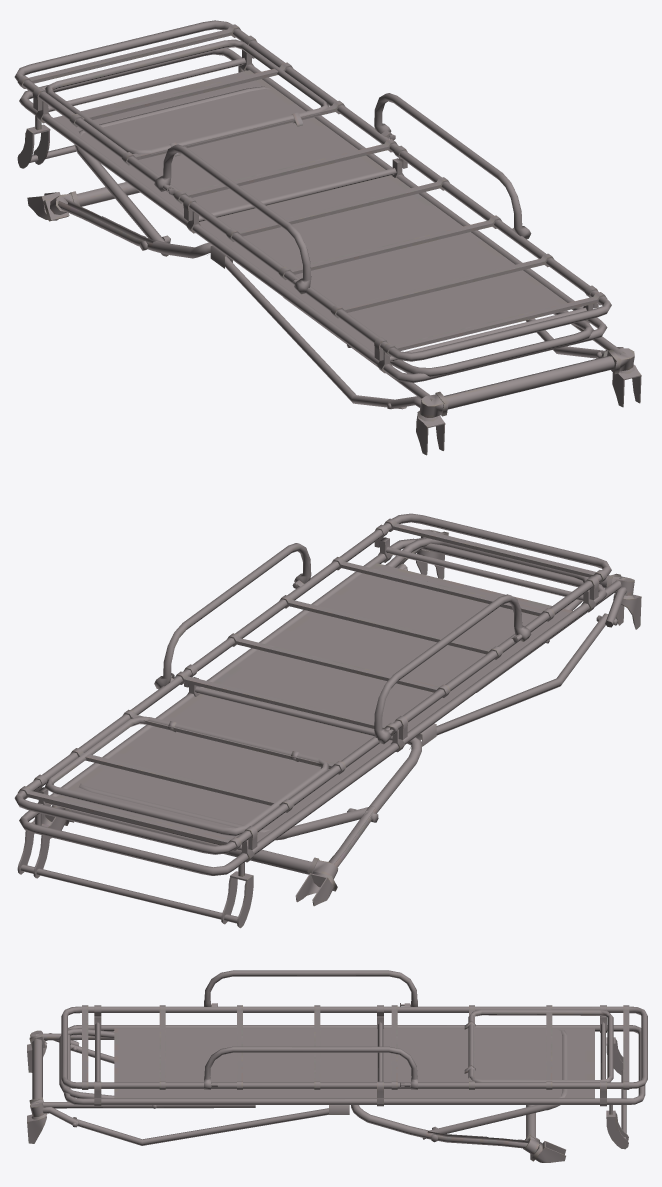
Rendered from 207_StretCher.fbx.
3 renders of one model, top to bottom at view 1: azimuth 30°, elevation 25°; view 2: azimuth 150°, elevation 25°; view 3: azimuth 270°, elevation 25°, orthographic. The views are drawn at different scales.
Parts seen in each view (by area): view 1: LOD_1_Group_0_Sub_1__sm30_128_Stretcher01A_A_Mat, LOD_1_Group_8_Sub_1__sm30_128_Stretcher01A_A_Mat, LOD_1_Group_3_Sub_1__sm30_128_Stretcher01A_A_Mat, LOD_1_Group_1_Sub_1__sm30_128_Stretcher01A_A_Mat, LOD_1_Group_6_Sub_1__sm30_128_Stretcher01A_A_Mat, LOD_1_Group_5_Sub_1__sm30_128_Stretcher01A_A_Mat, LOD_1_Group_4_Sub_1__sm30_128_Stretcher01A_A_Mat, LOD_1_Group_9_Sub_1__sm30_128_Stretcher01A_A_Mat; view 2: LOD_1_Group_0_Sub_1__sm30_128_Stretcher01A_A_Mat, LOD_1_Group_6_Sub_1__sm30_128_Stretcher01A_A_Mat, LOD_1_Group_3_Sub_1__sm30_128_Stretcher01A_A_Mat, LOD_1_Group_4_Sub_1__sm30_128_Stretcher01A_A_Mat, LOD_1_Group_1_Sub_1__sm30_128_Stretcher01A_A_Mat, LOD_1_Group_5_Sub_1__sm30_128_Stretcher01A_A_Mat, LOD_1_Group_8_Sub_1__sm30_128_Stretcher01A_A_Mat; view 3: LOD_1_Group_0_Sub_1__sm30_128_Stretcher01A_A_Mat, LOD_1_Group_6_Sub_1__sm30_128_Stretcher01A_A_Mat, LOD_1_Group_3_Sub_1__sm30_128_Stretcher01A_A_Mat, LOD_1_Group_5_Sub_1__sm30_128_Stretcher01A_A_Mat, LOD_1_Group_1_Sub_1__sm30_128_Stretcher01A_A_Mat, LOD_1_Group_8_Sub_1__sm30_128_Stretcher01A_A_Mat, LOD_1_Group_9_Sub_1__sm30_128_Stretcher01A_A_Mat, LOD_1_Group_4_Sub_1__sm30_128_Stretcher01A_A_Mat.
Part boxes in pixels (x1,y1,x2,y2): LOD_1_Group_0_Sub_1__sm30_128_Stretcher01A_A_Mat: (14, 20, 611, 382); LOD_1_Group_8_Sub_1__sm30_128_Stretcher01A_A_Mat: (386, 347, 641, 455); LOD_1_Group_3_Sub_1__sm30_128_Stretcher01A_A_Mat: (44, 39, 328, 157); LOD_1_Group_1_Sub_1__sm30_128_Stretcher01A_A_Mat: (74, 86, 593, 376); LOD_1_Group_6_Sub_1__sm30_128_Stretcher01A_A_Mat: (27, 182, 212, 258); LOD_1_Group_5_Sub_1__sm30_128_Stretcher01A_A_Mat: (225, 256, 607, 409); LOD_1_Group_4_Sub_1__sm30_128_Stretcher01A_A_Mat: (17, 124, 76, 168); LOD_1_Group_9_Sub_1__sm30_128_Stretcher01A_A_Mat: (283, 297, 625, 400); LOD_1_Group_0_Sub_1__sm30_128_Stretcher01A_A_Mat: (14, 513, 611, 876); LOD_1_Group_6_Sub_1__sm30_128_Stretcher01A_A_Mat: (33, 737, 421, 906); LOD_1_Group_3_Sub_1__sm30_128_Stretcher01A_A_Mat: (44, 716, 329, 836); LOD_1_Group_4_Sub_1__sm30_128_Stretcher01A_A_Mat: (17, 821, 253, 928); LOD_1_Group_1_Sub_1__sm30_128_Stretcher01A_A_Mat: (79, 538, 589, 840); LOD_1_Group_5_Sub_1__sm30_128_Stretcher01A_A_Mat: (398, 564, 608, 738); LOD_1_Group_8_Sub_1__sm30_128_Stretcher01A_A_Mat: (396, 529, 641, 629); LOD_1_Group_0_Sub_1__sm30_128_Stretcher01A_A_Mat: (61, 970, 647, 1114); LOD_1_Group_6_Sub_1__sm30_128_Stretcher01A_A_Mat: (351, 1105, 565, 1162); LOD_1_Group_3_Sub_1__sm30_128_Stretcher01A_A_Mat: (464, 1009, 613, 1082); LOD_1_Group_5_Sub_1__sm30_128_Stretcher01A_A_Mat: (70, 1044, 328, 1145); LOD_1_Group_1_Sub_1__sm30_128_Stretcher01A_A_Mat: (59, 1028, 567, 1139); LOD_1_Group_8_Sub_1__sm30_128_Stretcher01A_A_Mat: (27, 1030, 79, 1143); LOD_1_Group_9_Sub_1__sm30_128_Stretcher01A_A_Mat: (36, 1033, 255, 1108); LOD_1_Group_4_Sub_1__sm30_128_Stretcher01A_A_Mat: (606, 1037, 628, 1149).
Bounding box in the file's own units: 0.964 × 0.4846 × 2.47.
